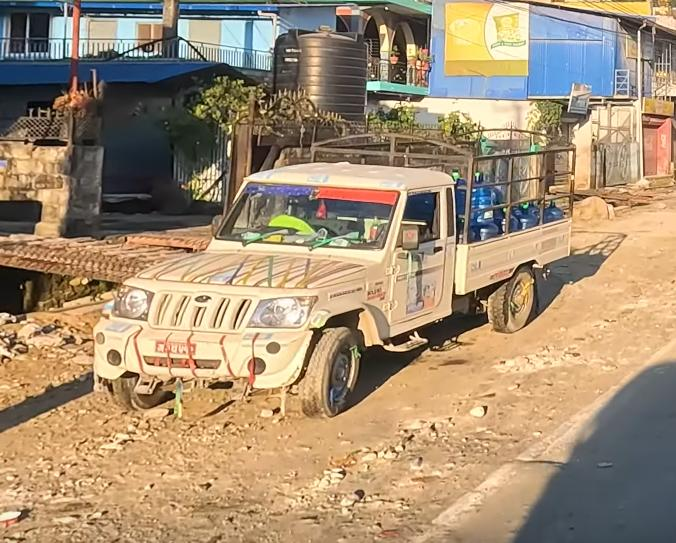transport_vehicle: (86, 112, 568, 428)
